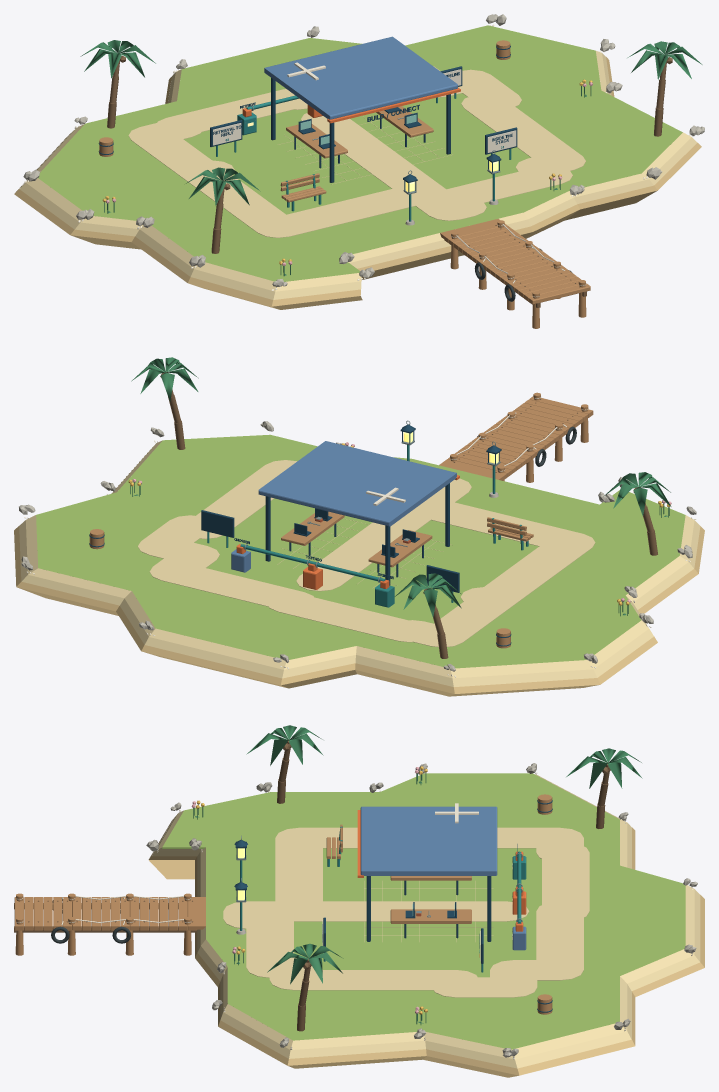
File: beaconfire.glb
The picture shows the model from 3 angles, top to bottom: view 1: azimuth 30°, elevation 25°; view 2: azimuth 150°, elevation 25°; view 3: azimuth 270°, elevation 25°; orthographic projection. The views are drawn at different scales.
Parts seen in each view (by area): view 1: static_grass, static_sand, static_wood, occluder_beaconfire_roof_blue, static_sandEdge, static_stone, static_navy, occluder_beaconfire_tree_16_leaf, occluder_beaconfire_tree_8_leaf, occluder_beaconfire_tree_4_leaf, static_teal, occluder_beaconfire_roof_orange (+3 smaller); view 2: static_grass, static_sand, occluder_beaconfire_roof_blue, static_wood, static_sandEdge, static_navy, static_stone, static_teal, occluder_beaconfire_tree_16_leaf, occluder_beaconfire_tree_4_leaf, occluder_beaconfire_tree_8_leaf, station_pipeline_navy; view 3: static_grass, static_sand, static_wood, occluder_beaconfire_roof_blue, static_sandEdge, static_stone, static_navy, occluder_beaconfire_tree_4_leaf, occluder_beaconfire_tree_16_leaf, occluder_beaconfire_tree_8_leaf, static_teal, static_darkWood.
Part boxes in pixels (x1,y1,x2,y2): static_grass: [38, 25, 682, 281]; static_sand: [19, 51, 697, 299]; static_wood: [99, 40, 590, 328]; occluder_beaconfire_roof_blue: [264, 36, 457, 119]; static_sandEdge: [14, 57, 701, 309]; static_stone: [23, 14, 704, 287]; static_navy: [98, 45, 510, 192]; occluder_beaconfire_tree_16_leaf: [627, 41, 702, 79]; occluder_beaconfire_tree_8_leaf: [80, 40, 155, 78]; occluder_beaconfire_tree_4_leaf: [186, 167, 260, 205]; static_teal: [237, 95, 494, 221]; occluder_beaconfire_roof_orange: [327, 87, 460, 123]; static_grass: [36, 434, 685, 668]; static_sand: [19, 440, 700, 686]; occluder_beaconfire_roof_blue: [258, 441, 456, 526]; static_wood: [89, 392, 593, 648]; static_sandEdge: [14, 458, 704, 696]; static_navy: [89, 424, 511, 646]; static_stone: [19, 421, 696, 671]; static_teal: [240, 444, 528, 607]; occluder_beaconfire_tree_16_leaf: [131, 357, 198, 401]; occluder_beaconfire_tree_4_leaf: [603, 472, 671, 515]; occluder_beaconfire_tree_8_leaf: [395, 573, 461, 617]; station_pipeline_navy: [201, 510, 234, 537]; static_grass: [162, 773, 685, 1049]; static_sand: [152, 774, 700, 1068]; static_wood: [14, 794, 552, 1014]; occluder_beaconfire_roof_blue: [360, 806, 497, 875]; static_sandEdge: [148, 818, 704, 1077]; static_stone: [146, 763, 697, 1057]; static_navy: [234, 800, 552, 1012]; occluder_beaconfire_tree_4_leaf: [246, 725, 323, 765]; occluder_beaconfire_tree_16_leaf: [267, 943, 343, 984]; occluder_beaconfire_tree_8_leaf: [566, 748, 642, 788]; static_teal: [240, 826, 526, 930]; static_darkWood: [14, 900, 197, 932].
Size of the model in its own units: 30.02 by 5.47 by 29.8.
